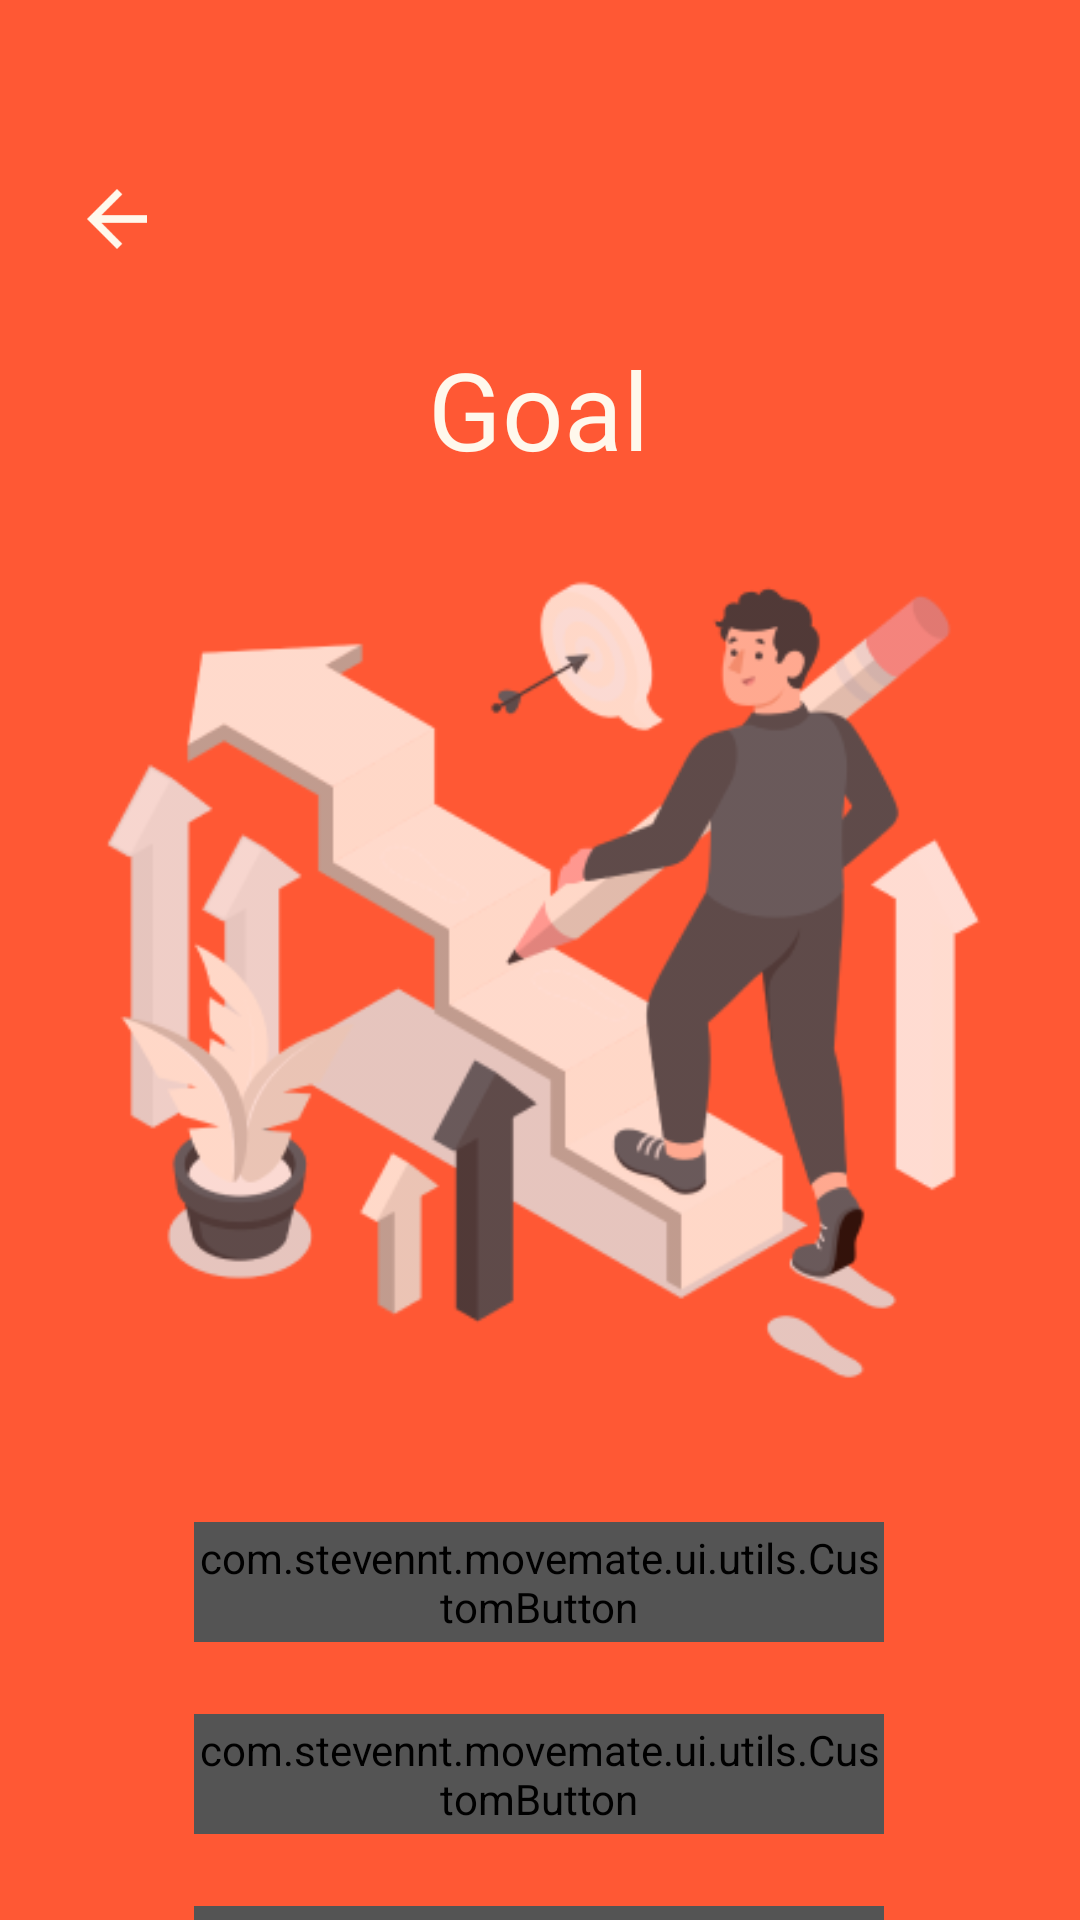

Icons on this 1080w x 1920h Android screen, each with its box as box=[x1, y1, x2, y2]:
arrow back: box=[87, 189, 147, 249]
